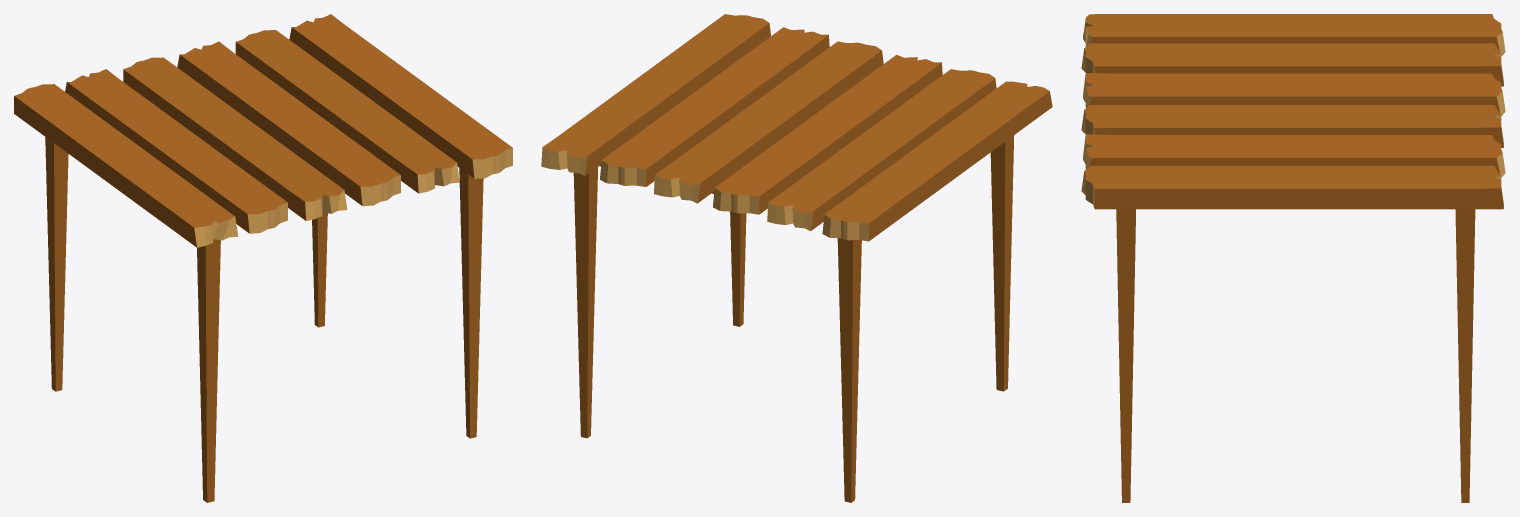
Rendered from Floor_wooden.fbx.
3 views of the same model, side by side, from view 1: azimuth 30°, elevation 25°; view 2: azimuth 150°, elevation 25°; view 3: azimuth 270°, elevation 25° (orthographic). The views are drawn at different scales.
Parts seen in each view (by area): view 1: Cube.1215; view 2: Cube.1215; view 3: Cube.1215.
Boxes of the visible parts, x1,y1,x2,y2 form: Cube.1215: [14, 14, 512, 502]; Cube.1215: [541, 14, 1052, 502]; Cube.1215: [1081, 14, 1505, 502].
Bounding box in the file's own units: 7329 × 6394 × 7502.
